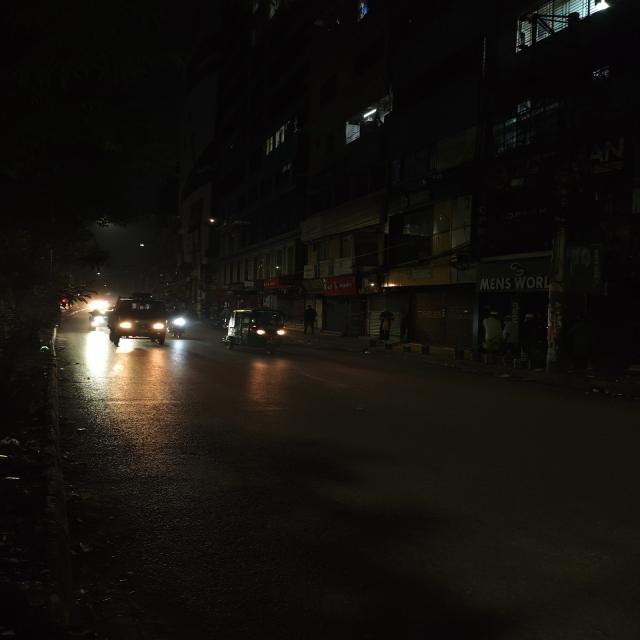cng: (217, 306, 294, 356)
motorcycle: (170, 309, 187, 342), (85, 308, 104, 331)
pedestrian: (473, 306, 505, 368), (373, 306, 395, 346), (299, 305, 319, 340)
pickup_van: (98, 293, 178, 350)
